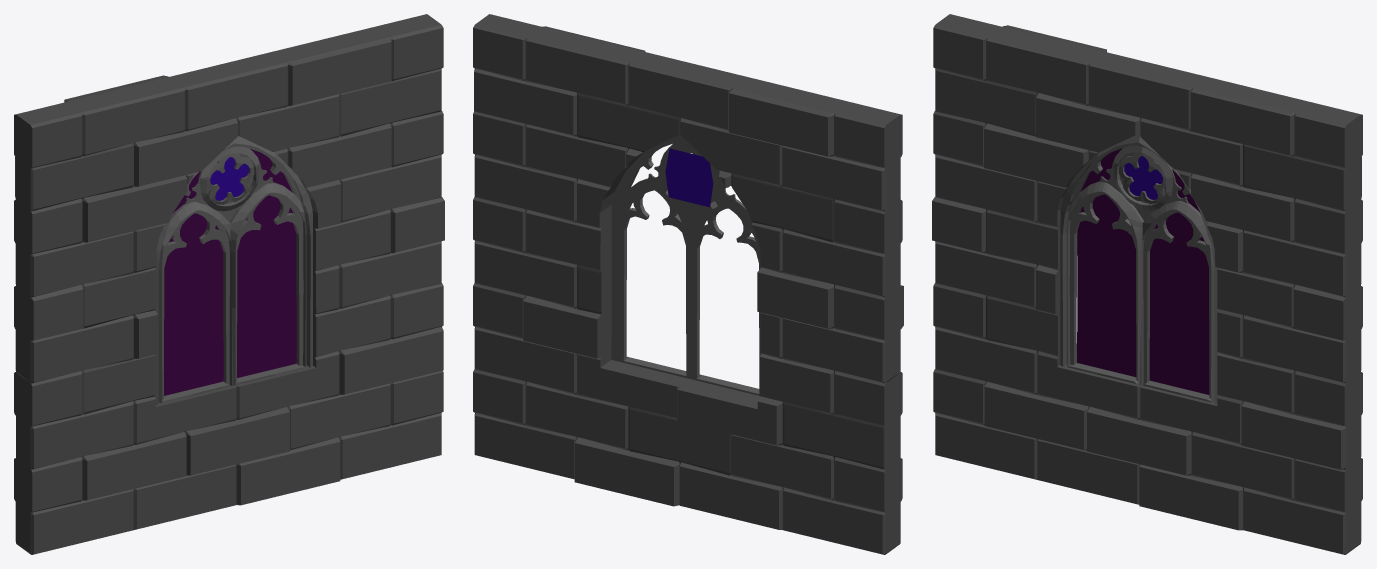
File: Wall_Window.fbx
3 renders of one model, left to right at view 1: azimuth 30°, elevation 25°; view 2: azimuth 150°, elevation 25°; view 3: azimuth 330°, elevation 25°, orthographic.
Visible parts, largest first — view 1: Plane.001; view 2: Plane.001; view 3: Plane.001.
Part boxes in pixels (x1,y1,x2,y2): Plane.001: (14,14,444,554); Plane.001: (473,14,903,554); Plane.001: (932,14,1362,554).
Size of the model in its own units: 400 by 400 by 40.
